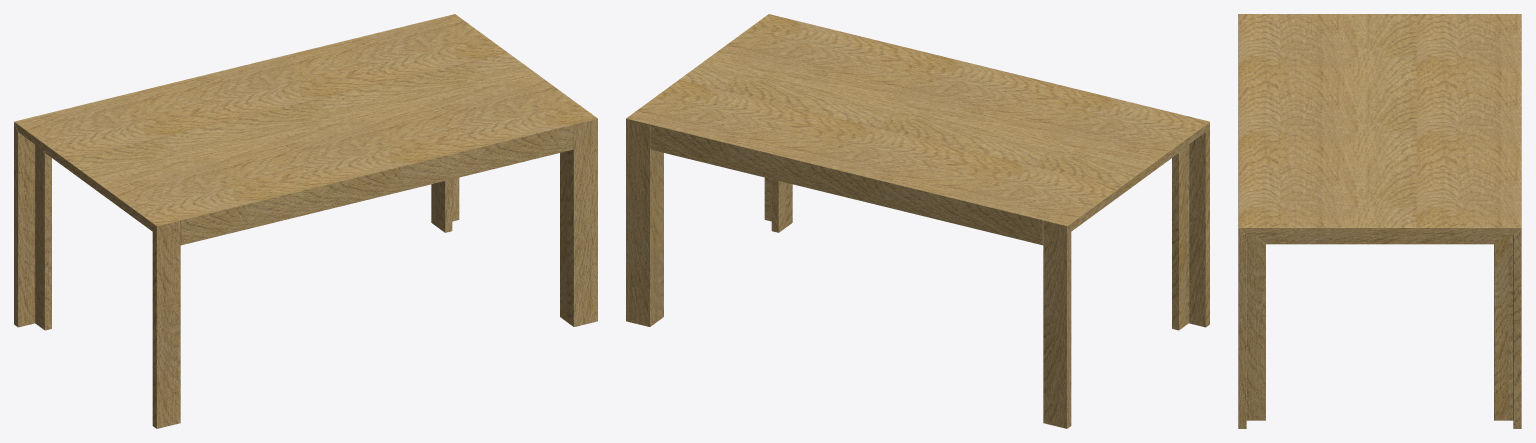
The picture shows the model from 3 angles, left to right: view 1: azimuth 30°, elevation 25°; view 2: azimuth 150°, elevation 25°; view 3: azimuth 270°, elevation 25°; orthographic projection.
Visible parts, largest first — view 1: cgaxis_models_07_23_01; view 2: cgaxis_models_07_23_01; view 3: cgaxis_models_07_23_01.
Boxes of the visible parts, x1=… form: cgaxis_models_07_23_01: x1=14, y1=14, x2=597, y2=428; cgaxis_models_07_23_01: x1=626, y1=14, x2=1209, y2=428; cgaxis_models_07_23_01: x1=1238, y1=14, x2=1521, y2=428.
Bounding box in the file's own units: 71.65 × 31.5 × 40.16.
Materials: 1 (1 with a texture image).
